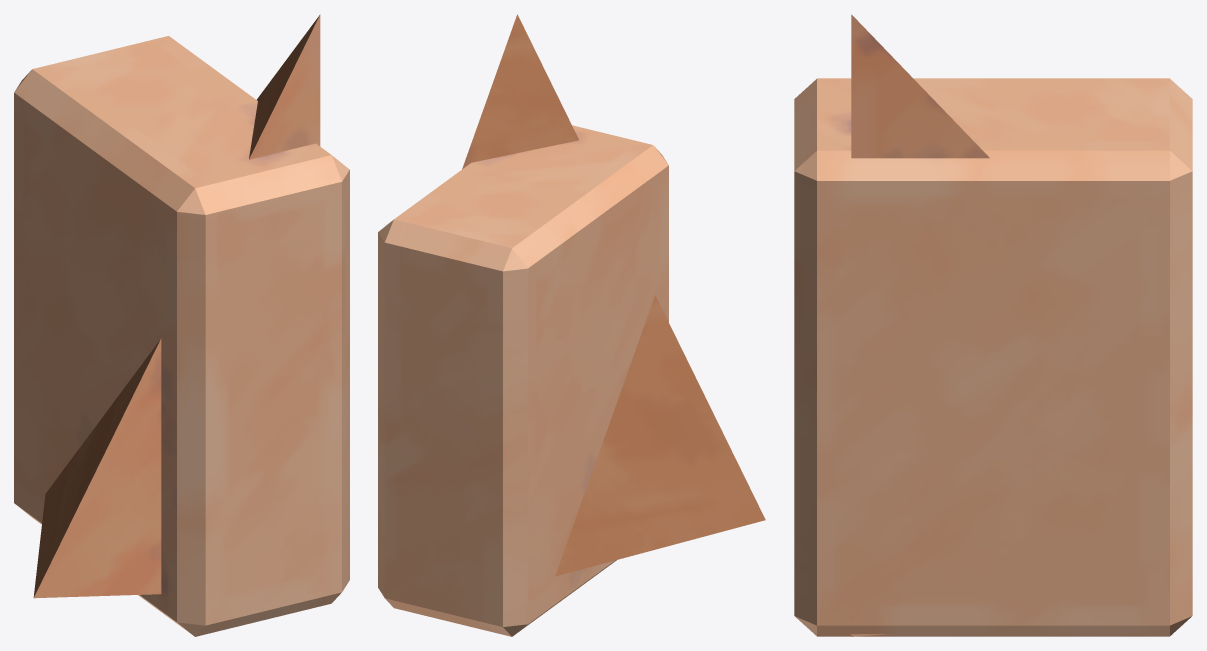
Rendered from wall_door_s07.fbx.
3 renders of one model, left to right at view 1: azimuth 30°, elevation 25°; view 2: azimuth 150°, elevation 25°; view 3: azimuth 270°, elevation 25°, orthographic. The views are drawn at different scales.
Visible parts, largest first — view 1: wall_door_s07; view 2: wall_door_s07; view 3: wall_door_s07.
Boxes of the visible parts, x1=… form: wall_door_s07: x1=14, y1=14, x2=349, y2=636; wall_door_s07: x1=378, y1=14, x2=765, y2=636; wall_door_s07: x1=794, y1=14, x2=1192, y2=636.
Bounding box in the file's own units: 1.32 × 2.42 × 1.4.
